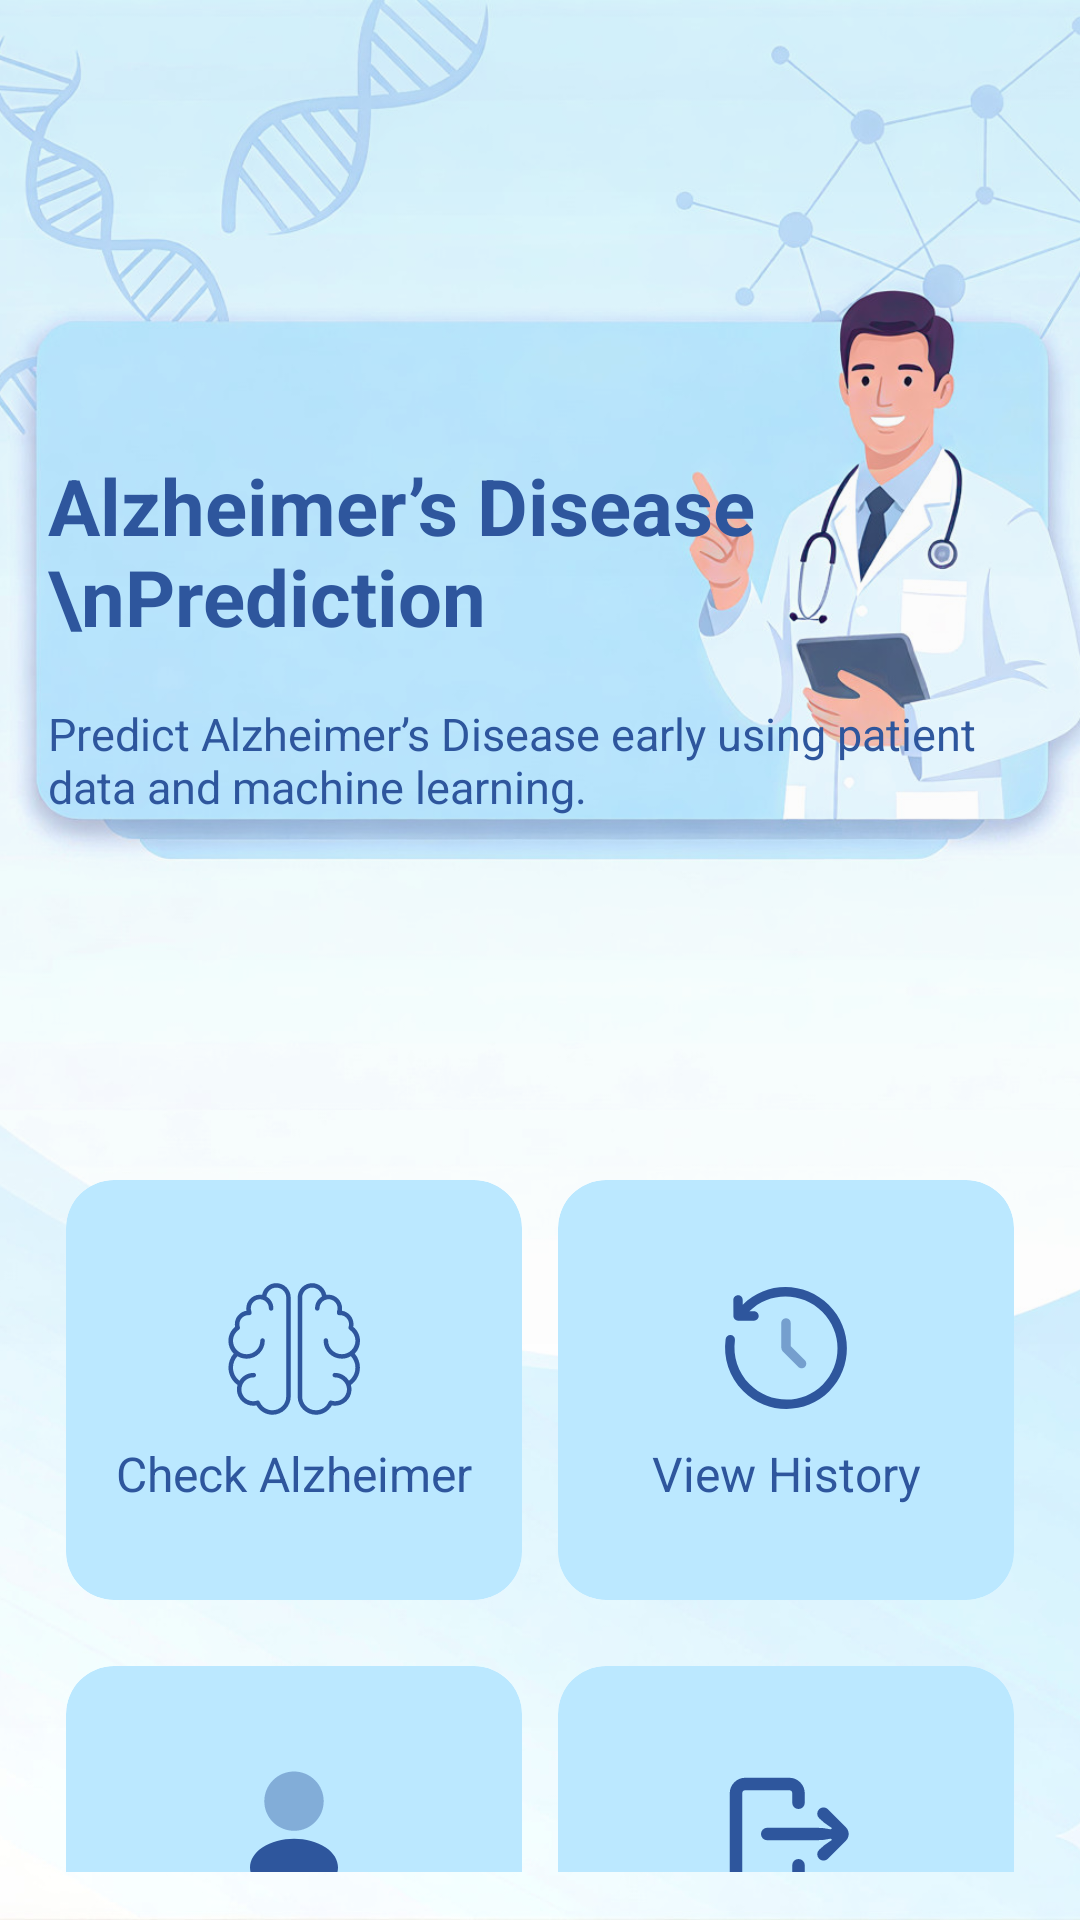

Where to tap for icons on this 1080*1920 app screen, as (x,y):
brain: (294,1349)
